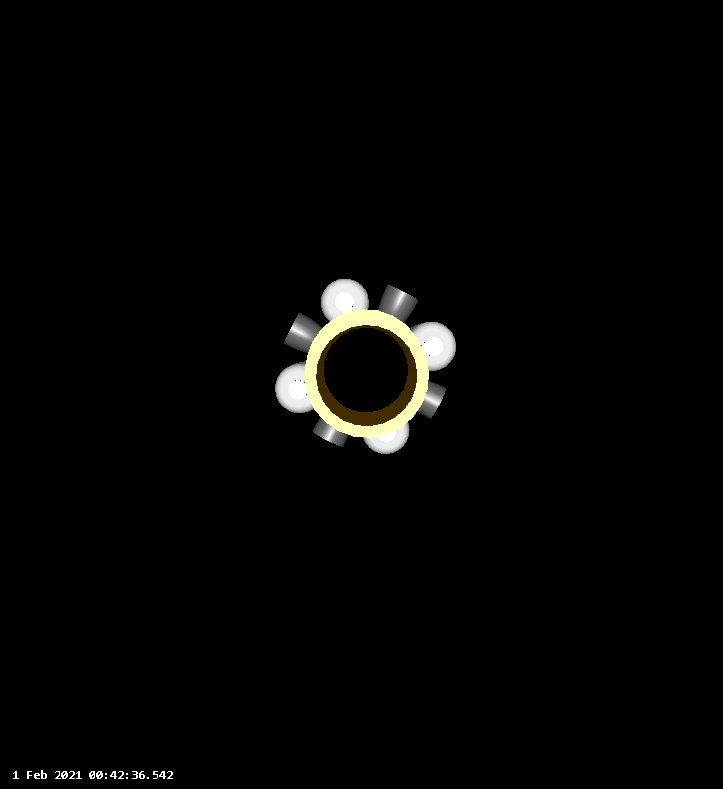body: (273, 275, 457, 457)
thruster: (306, 312, 430, 432), (280, 310, 326, 356), (377, 281, 422, 323), (414, 381, 448, 423), (309, 418, 351, 452)
